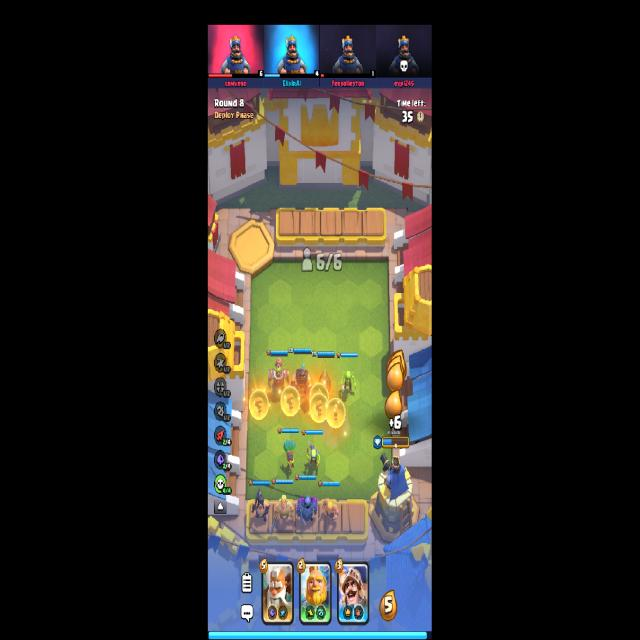bandit: (317, 369, 332, 393)
barbarian: (319, 498, 339, 526)
card_monk: (262, 561, 294, 625)
card_prince: (337, 560, 369, 625)
card_royal_giant: (299, 560, 332, 626)
dart_goblin: (283, 438, 296, 472)
executioner: (250, 486, 270, 524)
goblin: (339, 370, 356, 394)
goblin_machine: (269, 357, 290, 396)
golden_knight: (271, 493, 294, 536)
mega_knight: (290, 364, 313, 402)
pekka: (295, 495, 318, 524)
spear_goblin: (306, 441, 321, 473)
